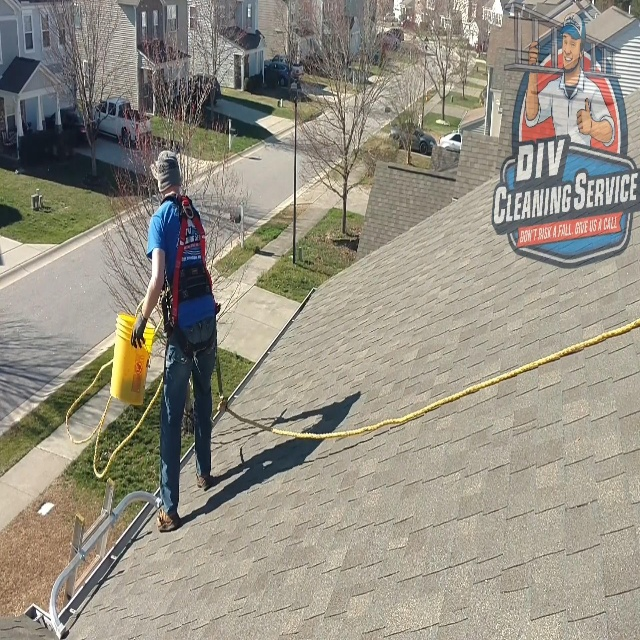Arnes_seguridad: (155, 187, 223, 361)
